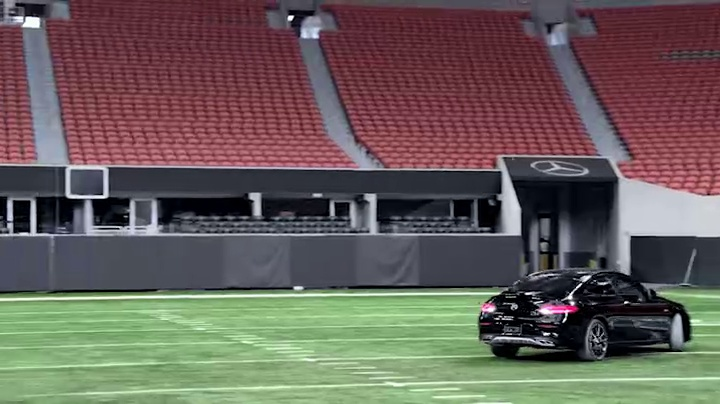amg: (474, 267, 694, 361)
